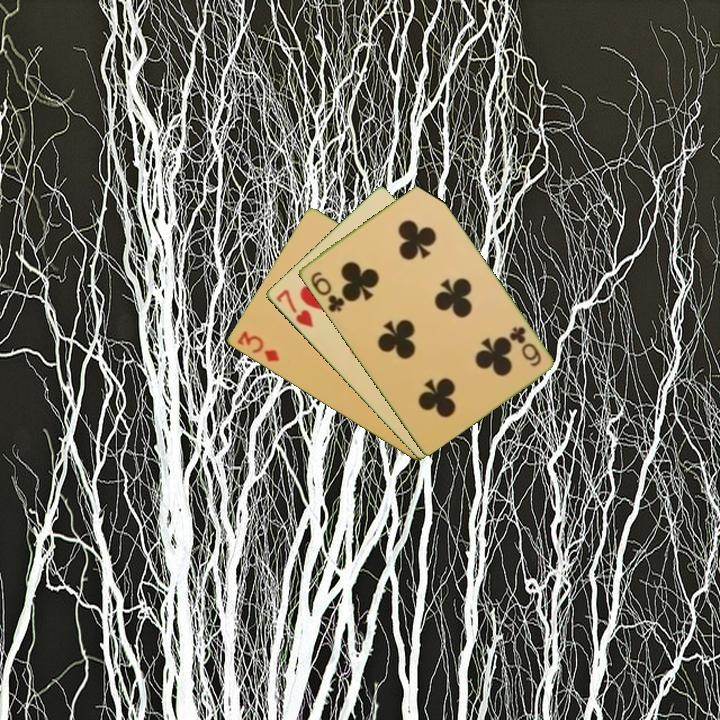3d: (234, 327, 282, 365)
6c: (307, 268, 347, 315), (505, 323, 544, 370)
7h: (272, 285, 316, 331)
